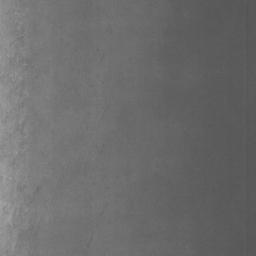Silk spot: (24, 186, 41, 206), (18, 224, 38, 241), (9, 58, 34, 70), (12, 28, 24, 46), (16, 122, 25, 135), (17, 183, 26, 192)
